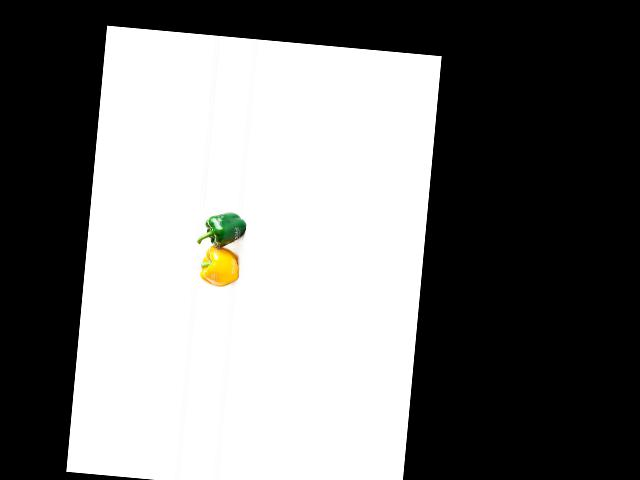bell_pepper: (200, 206, 253, 249)
